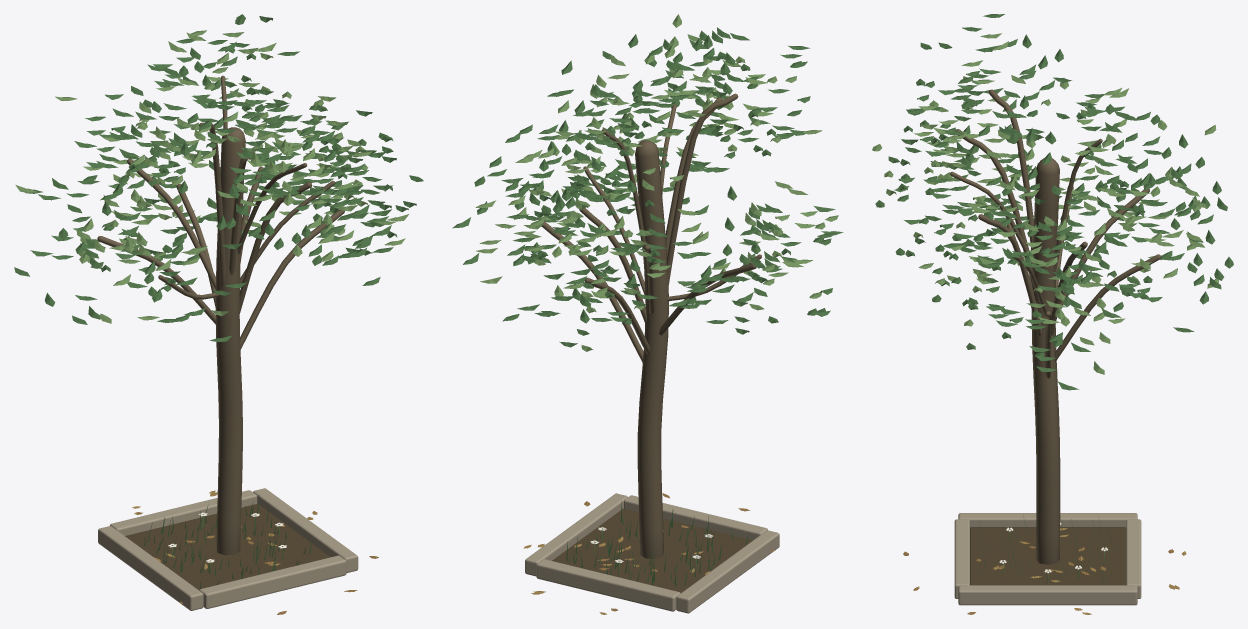
Rendered from tree_0.glb.
3 views of the same model, side by side, from view 1: azimuth 30°, elevation 25°; view 2: azimuth 150°, elevation 25°; view 3: azimuth 270°, elevation 25° (orthographic). The views are drawn at different scales.
Parts seen in each view (by area): view 1: Trunk, Soil, Hollow_pit_border.003, Hollow_pit_border, Hollow_pit_border.001, Hollow_pit_border.002, Tapered_branch, Tapered_branch.001, Tapered_branch.007, Tapered_branch.003, Tapered_branch.004, Tapered_branch.011 (+2 smaller); view 2: Trunk, Soil, Hollow_pit_border.002, Hollow_pit_border, Hollow_pit_border.001, Hollow_pit_border.003, Tapered_branch.001, Tapered_branch, Tapered_branch.006, Tapered_branch.002, Tapered_branch.005, Tapered_branch.010 (+1 smaller); view 3: Soil, Trunk, Hollow_pit_border.001, Hollow_pit_border, Hollow_pit_border.002, Hollow_pit_border.003, Tapered_branch.001, Tapered_branch.002, Tapered_branch.006, Tapered_branch.003, Tapered_branch.007, Tapered_branch.011 (+1 smaller).
Part boxes in pixels (x1,y1,x2,y2): Trunk: (215, 127, 245, 555); Soil: (125, 504, 330, 590); Hollow_pit_border.003: (199, 555, 346, 608); Hollow_pit_border: (98, 526, 203, 610); Hollow_pit_border.001: (253, 488, 358, 572); Hollow_pit_border.002: (110, 490, 257, 535); Tapered_branch: (240, 209, 344, 349); Tapered_branch.001: (199, 121, 226, 286); Tapered_branch.007: (127, 158, 215, 289); Tapered_branch.003: (239, 182, 311, 313); Tapered_branch.004: (97, 236, 216, 324); Tapered_branch.011: (237, 163, 307, 254); Trunk: (635, 140, 668, 558); Soil: (552, 508, 752, 592); Hollow_pit_border.002: (536, 559, 680, 611); Hollow_pit_border: (676, 530, 779, 613); Hollow_pit_border.001: (525, 493, 627, 576); Hollow_pit_border.003: (624, 495, 767, 540); Tapered_branch.001: (667, 93, 738, 288); Tapered_branch: (539, 219, 643, 362); Tapered_branch.006: (665, 97, 722, 256); Tapered_branch.002: (584, 277, 649, 354); Tapered_branch.005: (579, 208, 646, 323); Tapered_branch.010: (601, 129, 647, 271); Soil: (970, 527, 1126, 585); Trunk: (1031, 158, 1060, 564); Hollow_pit_border.001: (958, 585, 1137, 605); Hollow_pit_border: (958, 513, 1137, 527); Hollow_pit_border.002: (1126, 519, 1141, 598); Hollow_pit_border.003: (954, 519, 969, 598); Tapered_branch.001: (989, 89, 1033, 250); Tapered_branch.002: (1054, 254, 1161, 361); Tapered_branch.006: (955, 129, 1032, 284); Tapered_branch.003: (978, 214, 1041, 335); Tapered_branch.007: (1060, 188, 1149, 308); Tapered_branch.011: (950, 171, 1035, 273).
Bounding box in the file's own units: 3.31 × 4.43 × 2.87.
